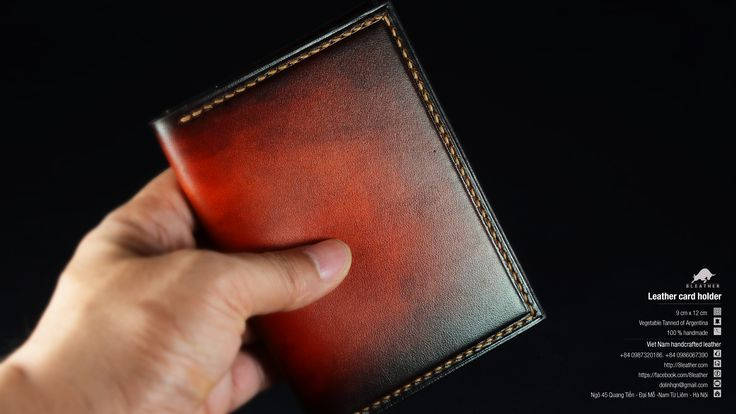monedero: (147, 3, 550, 414)
